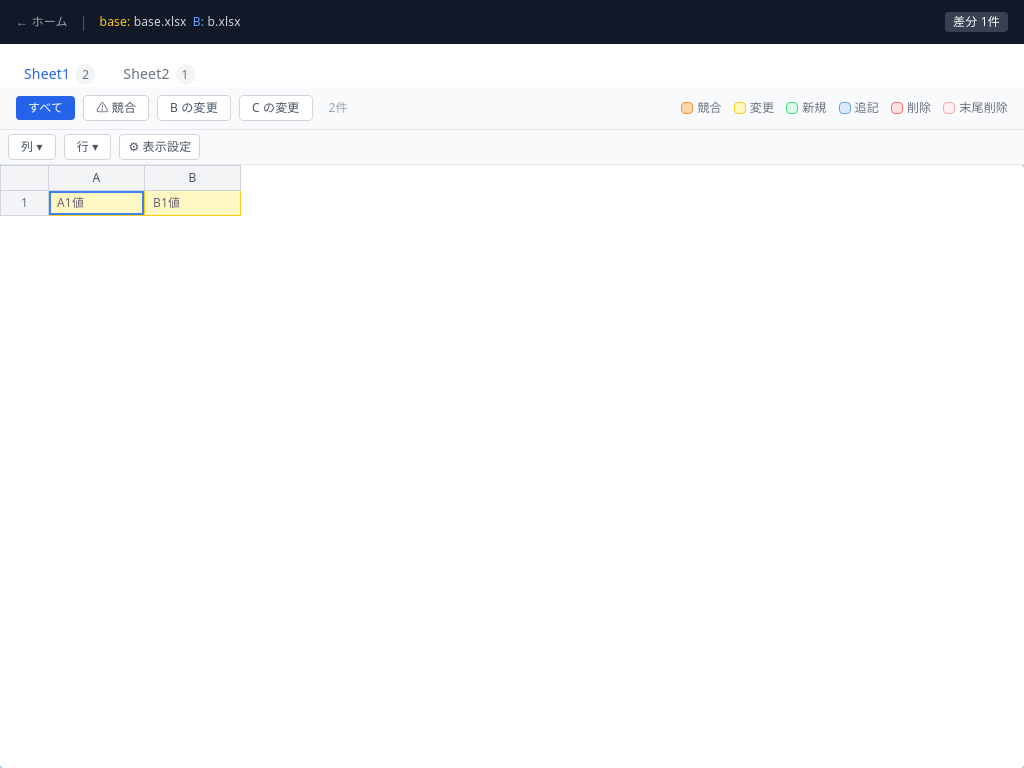
B-031: 列・行フィルタ › シート切り替えでそのシートのフィルタは保持される
The image size is (1024, 768).
Expected: the text "A1値" is shown, [48,190,144,216]
Sheet1 で A列を除外
Click the button "列 ▾": [32, 147] box [8,134,56,160]
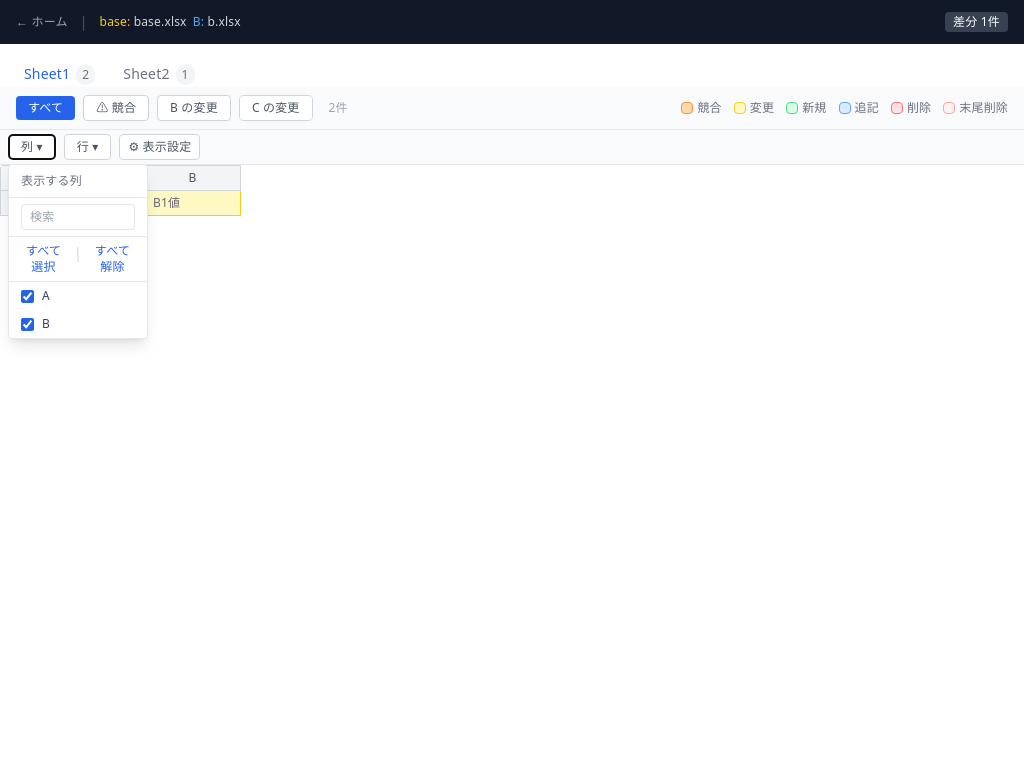
Click the checkbox labelled "A": [28, 296] box [21,290,34,302]
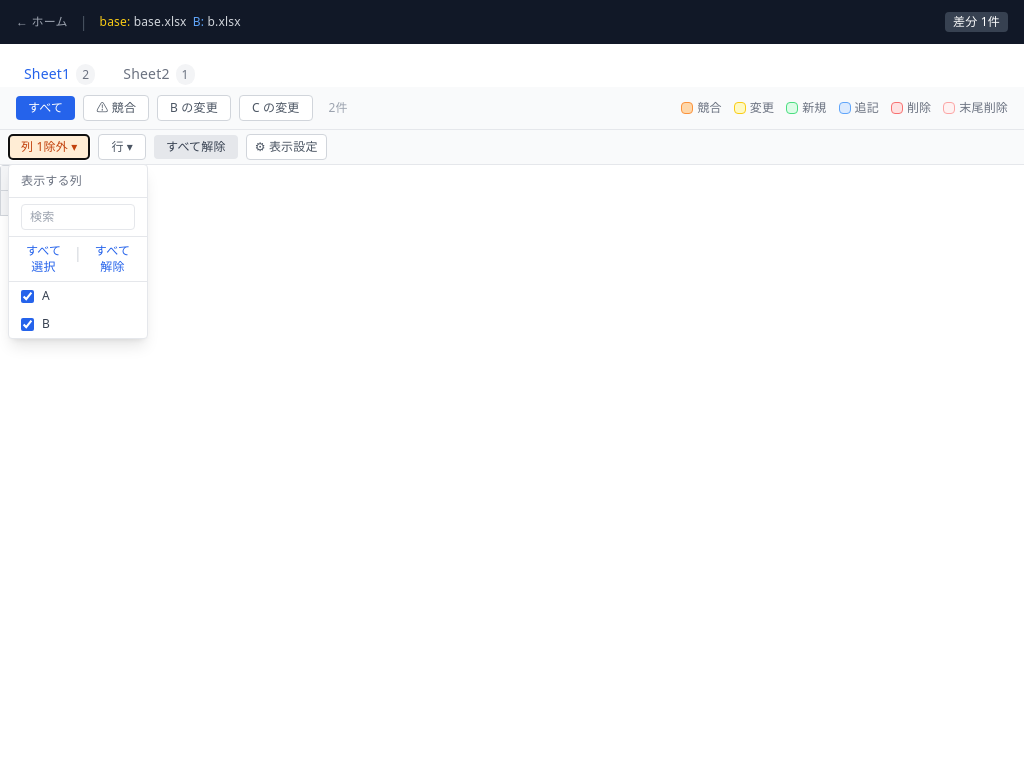
Expected: the text "A1値" is not shown
Click the button "Sheet21": [159, 75] box [111,56,207,94]
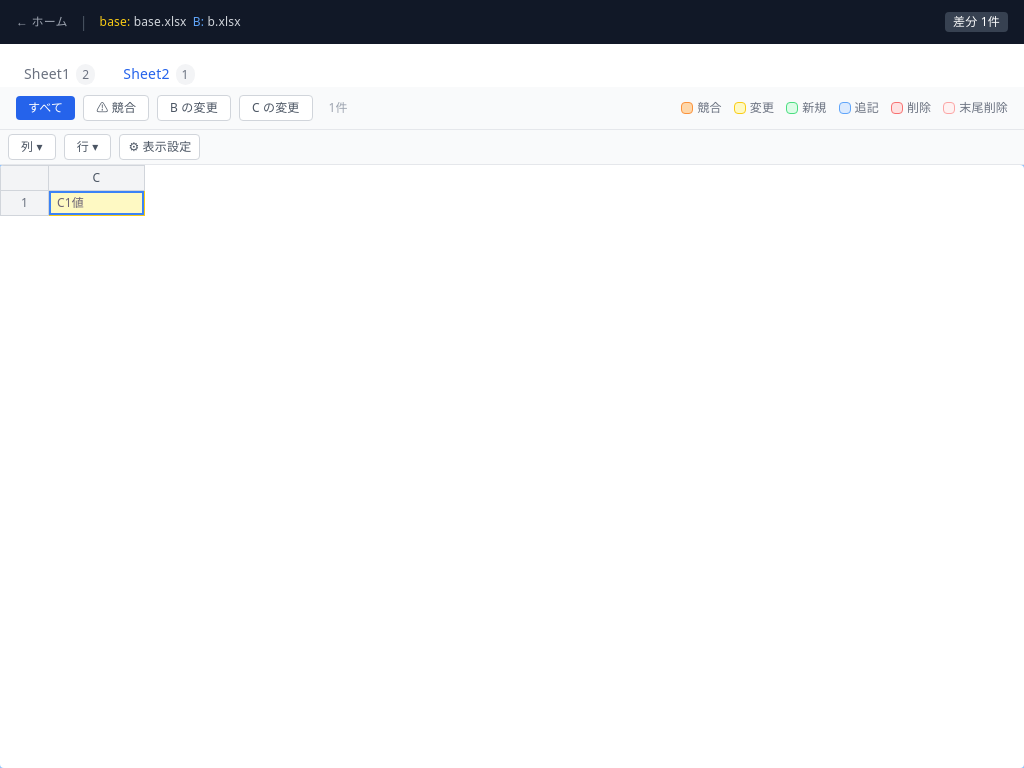
Expected: the text "C1値" is shown, [48,190,144,216]
Click the button "Sheet12": [60, 75] box [12,56,107,94]
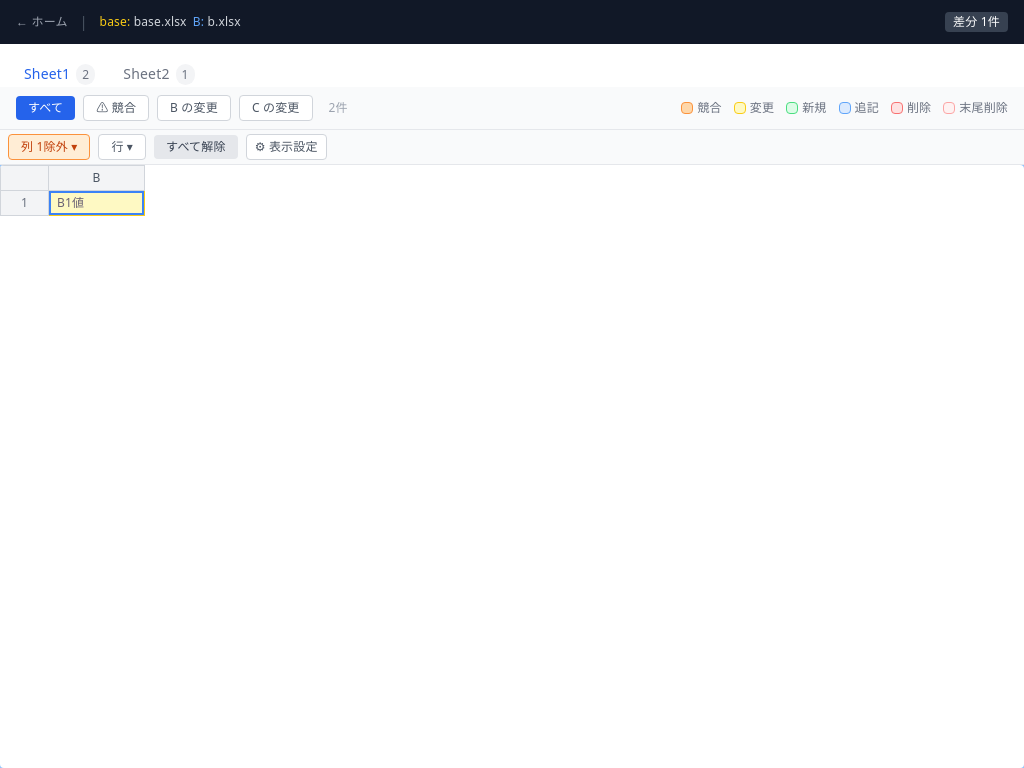
Expected: the text "A1値" is not shown
Expected: the text "B1値" is shown, [48,190,144,216]
